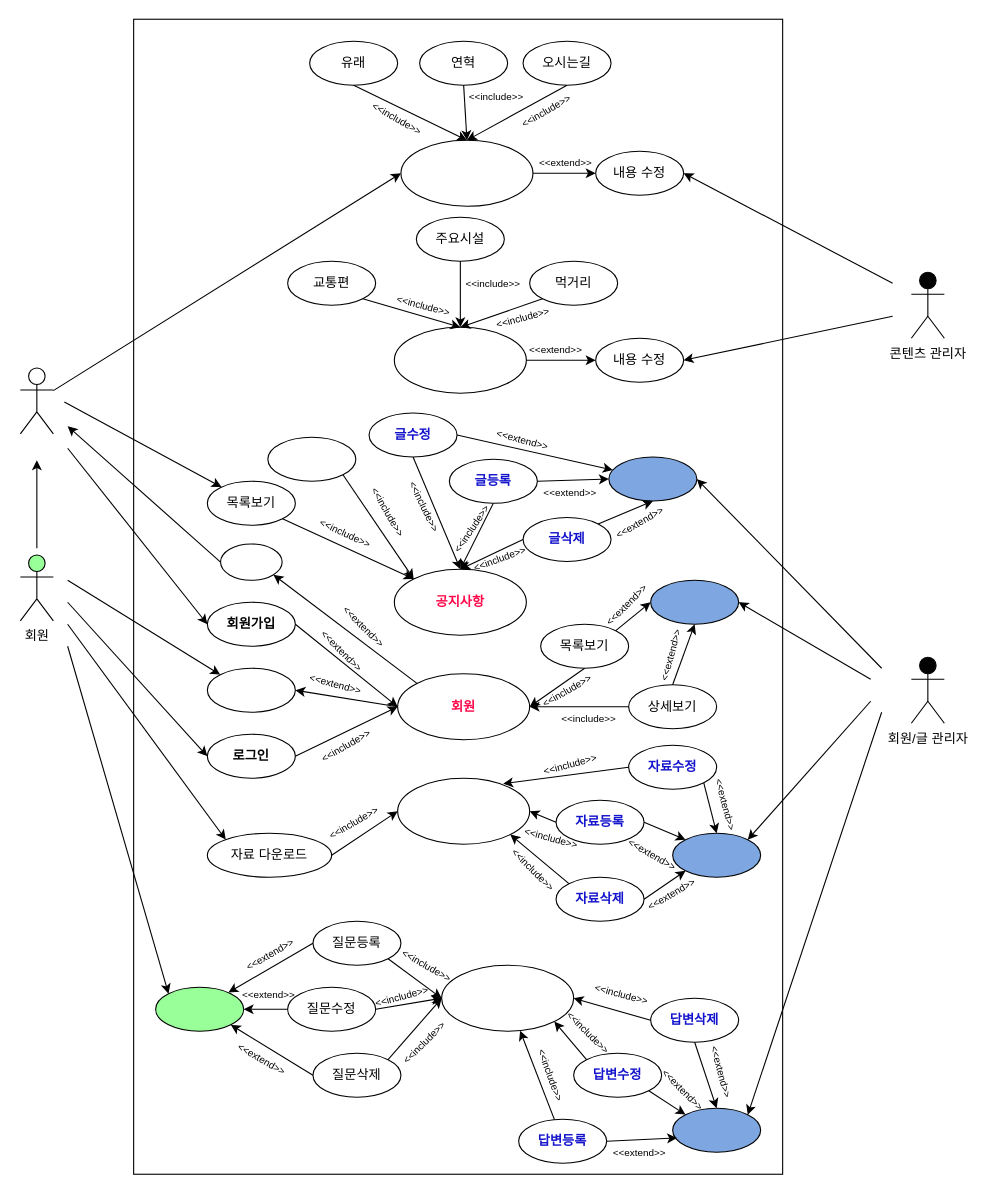
Image size: 987x1194. Some labels were removed from this diagram. The shapes that lost their labels are listed below. From the top down, each one's centre as x and y in pixels, then its label:
At (x=466, y=172): "지역소개".
At (x=459, y=359): "이용안내".
At (x=36, y=400): "비회원".
At (x=311, y=458): "상세정보".
At (x=652, y=478): "글관리".
At (x=250, y=561): "탈퇴".
At (x=694, y=601): "회원관리".
At (x=250, y=689): "정보수정".
At (x=463, y=810): "자료실".
At (x=716, y=854): "자료관리".
At (x=199, y=1008): "질문".
At (x=507, y=997): "묻고답하기".
At (x=716, y=1129): "Qna관리".
